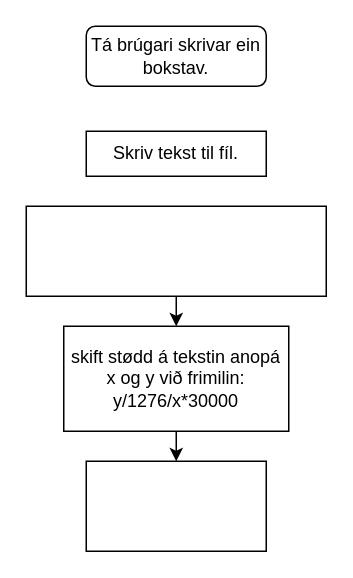
Some shapes in this 353 by 578 pixel diagram are drawn without their labels. Each missing label, with the centre of its shape:
skift stødd av tekst: pixel 175 505
x = stødd á window y = longd á tí longstu linju av tekst: pixel 175 250
